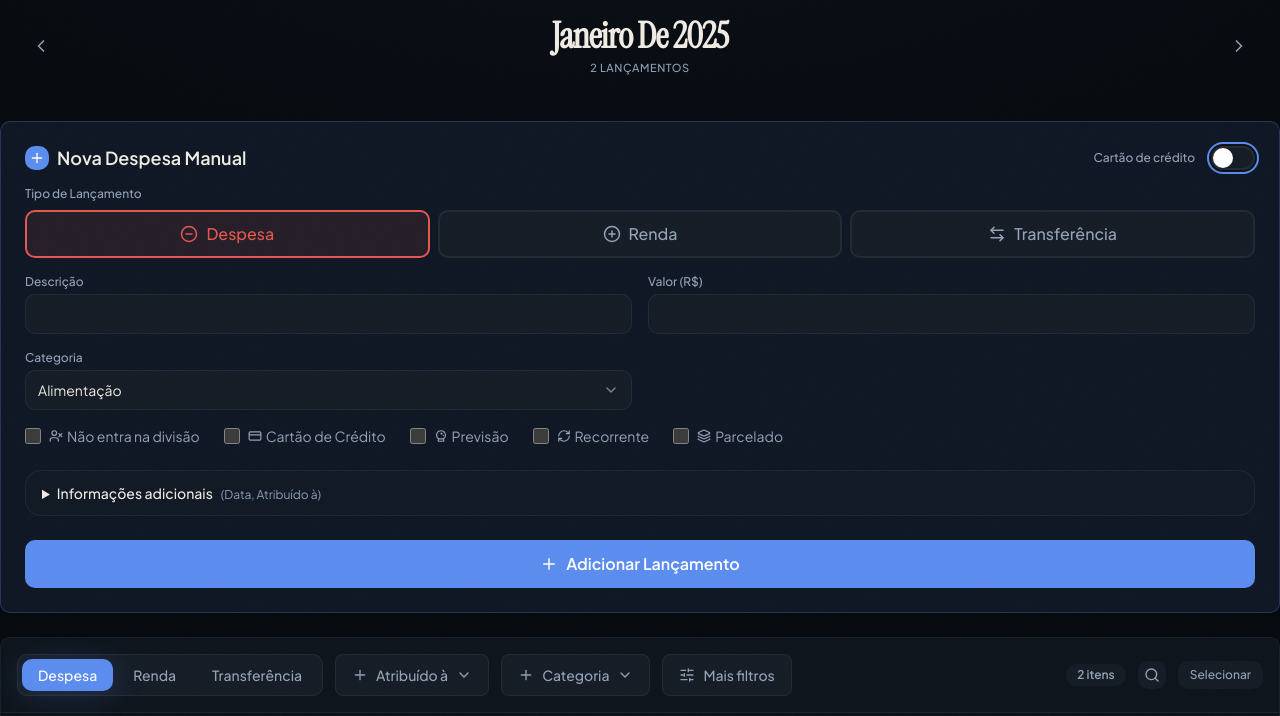
Test case: TransactionsView › Filters and search › filtering by Recurring shows only recurring transactions
Click the button with aria-label "Filtrar lançamentos": x=727, y=675 [662,654,792,696]
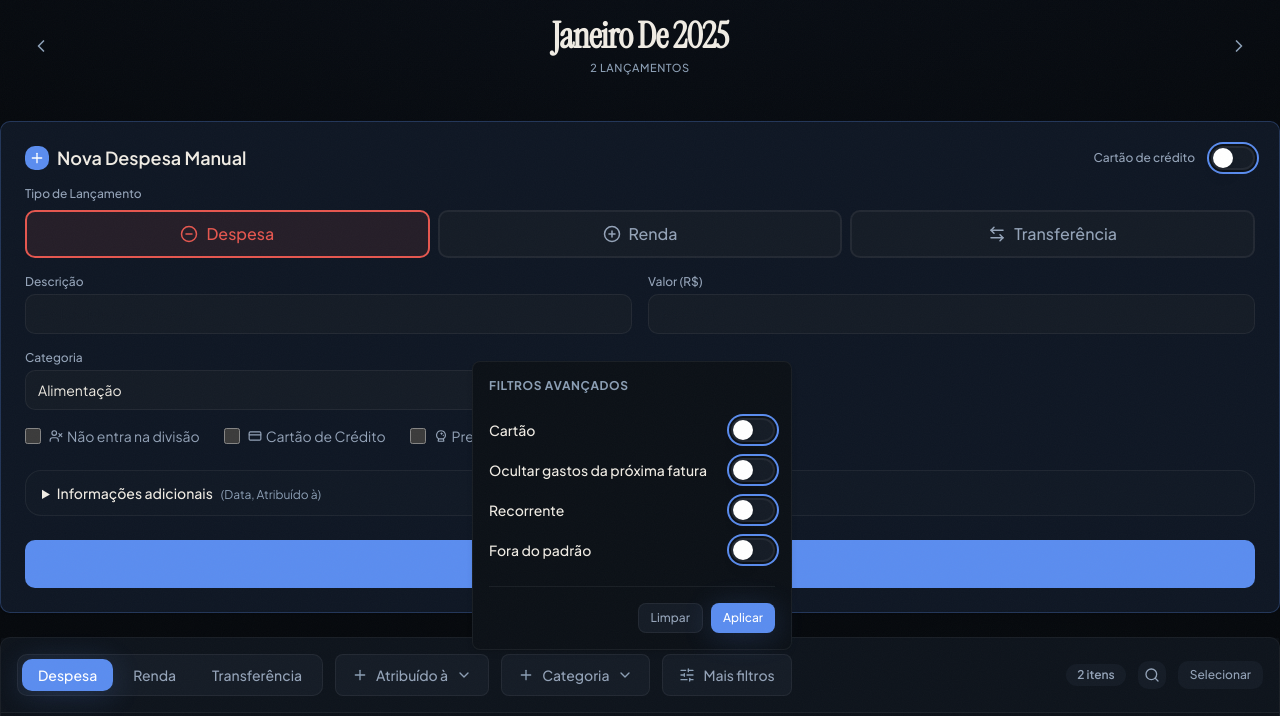
Check: the 4th switch named "Recorrente" is shown
Click the 4th switch named "Recorrente": x=753, y=510 [731,498,775,522]
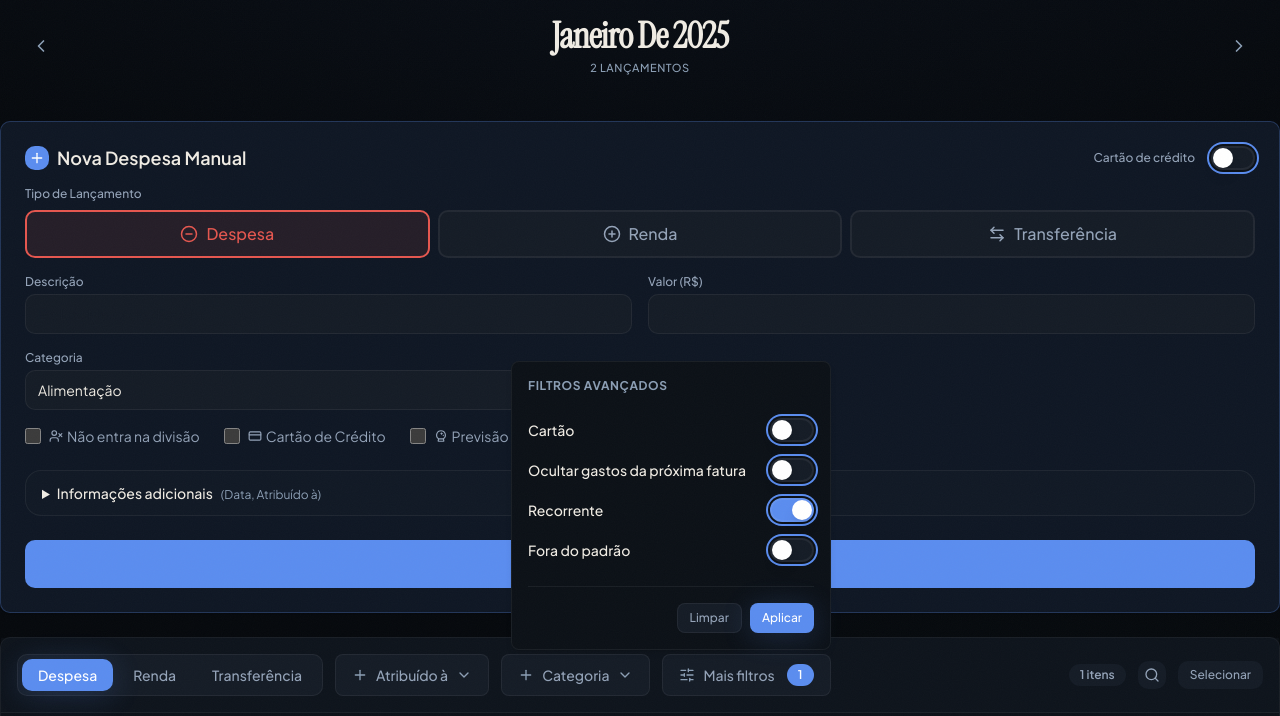
Check: the text "NonRecurring" is not shown
Click the 4th switch named "Recorrente": x=792, y=510 [770,498,814,522]
(page scrolled)
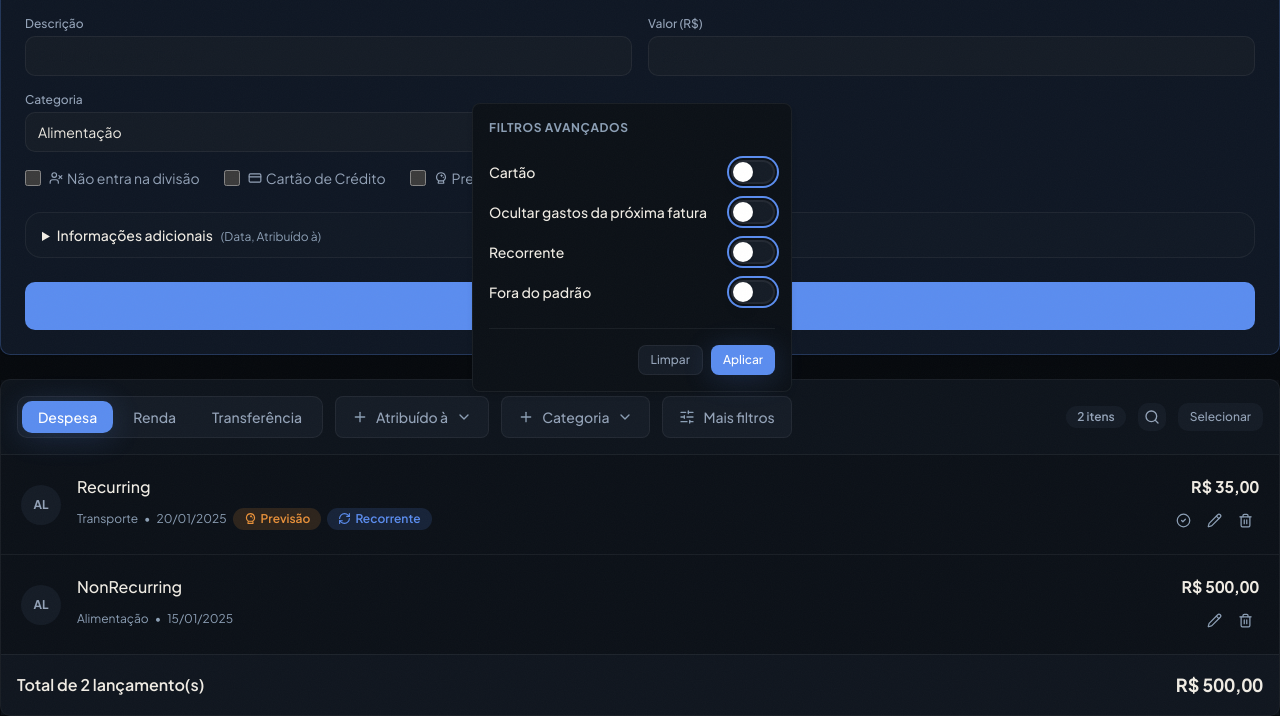
Check: the heading "Recurring" is shown, box [77,475,150,499]
Check: the heading "NonRecurring" is shown, box [77,575,182,599]
